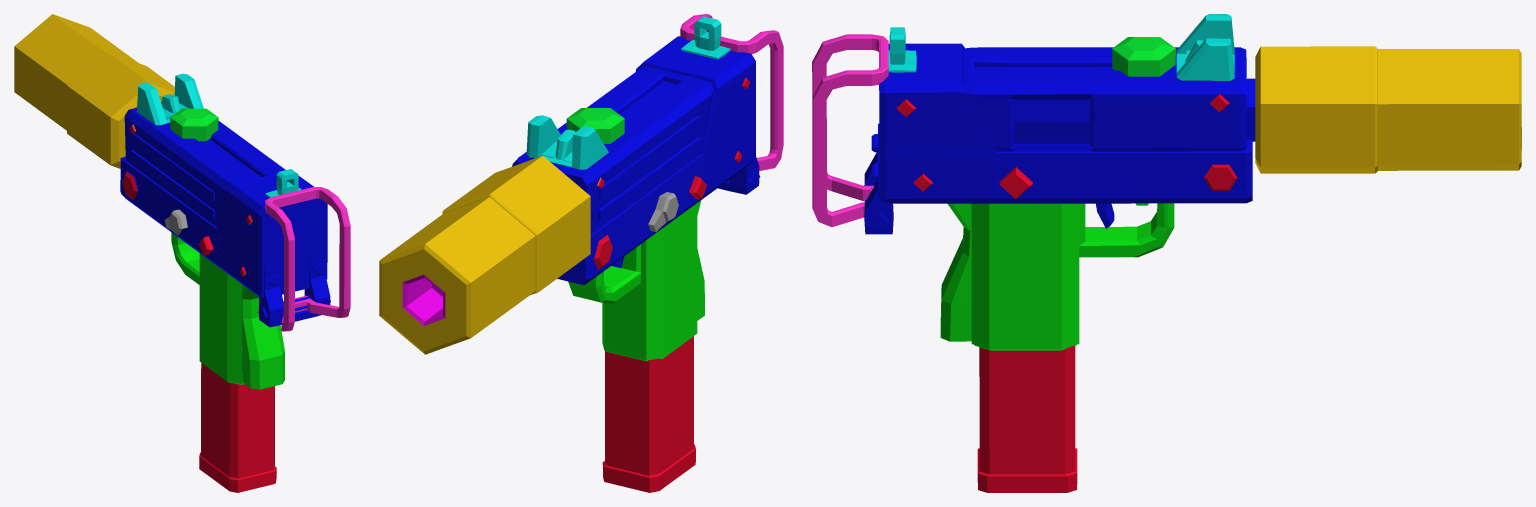
The model's file is uzi_msi.fbx.
The picture shows the model from 3 angles, left to right: view 1: azimuth 30°, elevation 25°; view 2: azimuth 150°, elevation 25°; view 3: azimuth 270°, elevation 25°; orthographic projection. The views are drawn at different scales.
Visible parts, largest first — view 1: Cube; view 2: Cube; view 3: Cube.
Part boxes in pixels (box(x1,y1,x2,y2)): Cube: box(14, 14, 350, 492); Cube: box(379, 14, 783, 492); Cube: box(812, 14, 1521, 492).
Size of the model in its own units: 197 by 770 by 1102.
